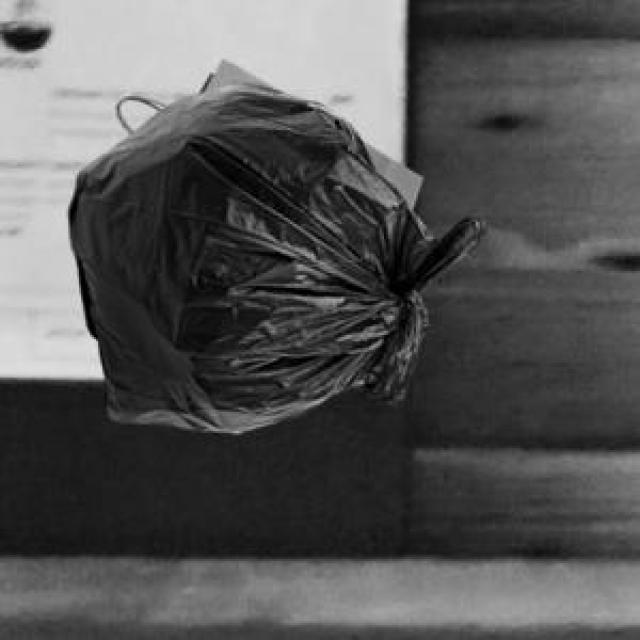miscellaneous trash: (64, 79, 484, 429)
paper: (113, 56, 418, 207)
